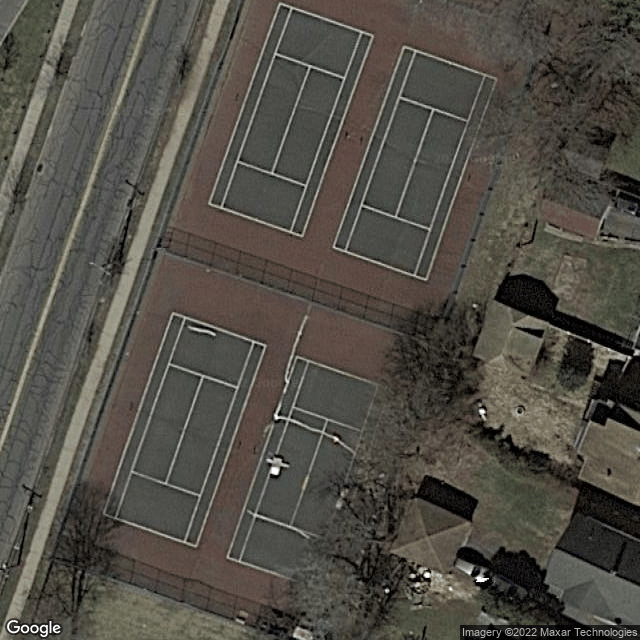Court: (223, 357, 397, 599), (99, 308, 268, 548), (329, 44, 497, 283), (208, 2, 377, 236)
